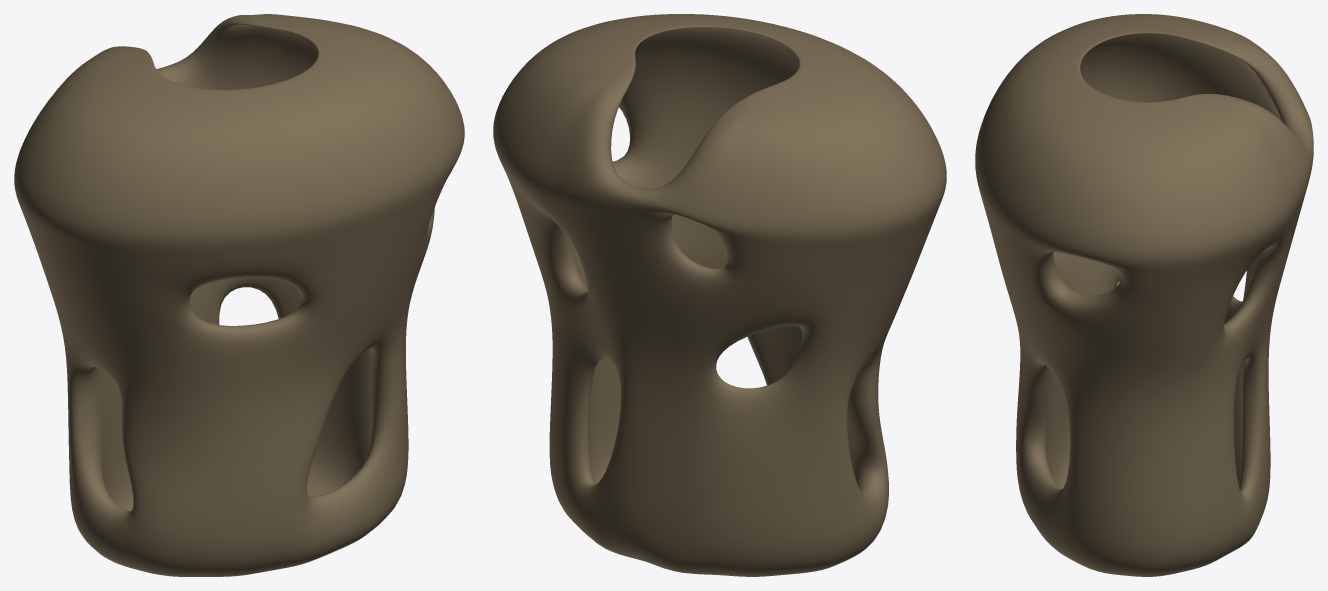
Rendered from TimShirt.fbx.
The picture shows the model from 3 angles, left to right: view 1: azimuth 30°, elevation 25°; view 2: azimuth 150°, elevation 25°; view 3: azimuth 270°, elevation 25°; orthographic projection. The views are drawn at different scales.
Visible parts, largest first — view 1: Cylinder.120; view 2: Cylinder.120; view 3: Cylinder.120.
Part boxes in pixels (box(x1,y1,x2,y2)): Cylinder.120: box(14, 14, 464, 576); Cylinder.120: box(493, 14, 946, 576); Cylinder.120: box(975, 14, 1313, 576).
Bounding box in the file's own units: 185 × 136 × 202.
